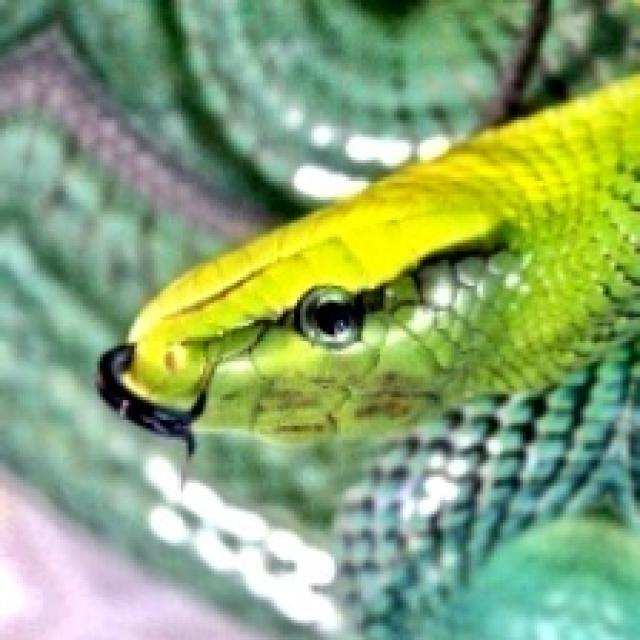red-tailed green ratsnake: (97, 74, 637, 611)
